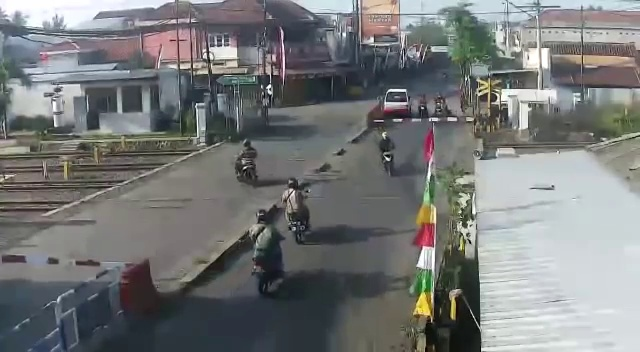car: (385, 87, 412, 116)
motorbike: (252, 211, 286, 293), (281, 175, 313, 245), (236, 140, 259, 185), (378, 131, 395, 178), (419, 95, 430, 119), (433, 95, 444, 116)
